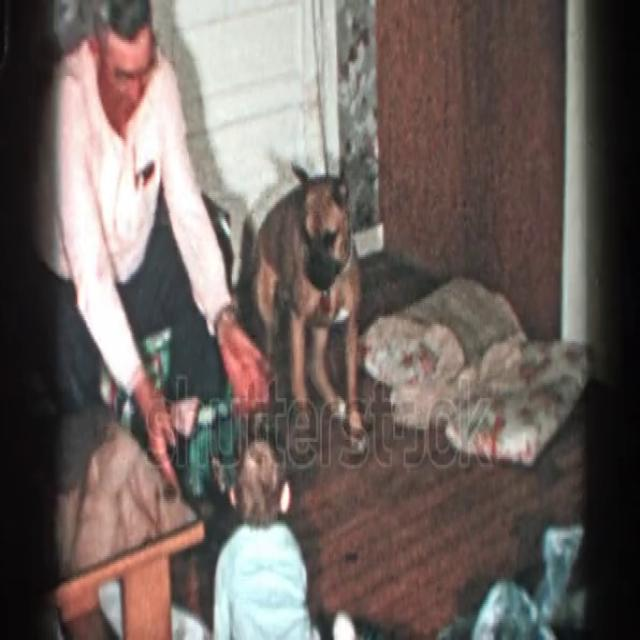normal_animals: (242, 156, 372, 457)
